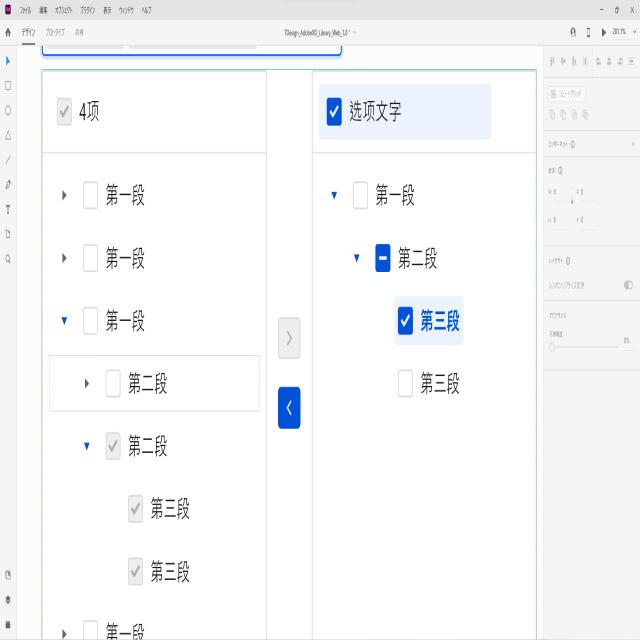checkbox: (104, 429, 123, 462), (126, 555, 145, 587), (396, 304, 414, 336), (127, 492, 144, 525), (56, 95, 73, 126), (327, 95, 343, 126)
